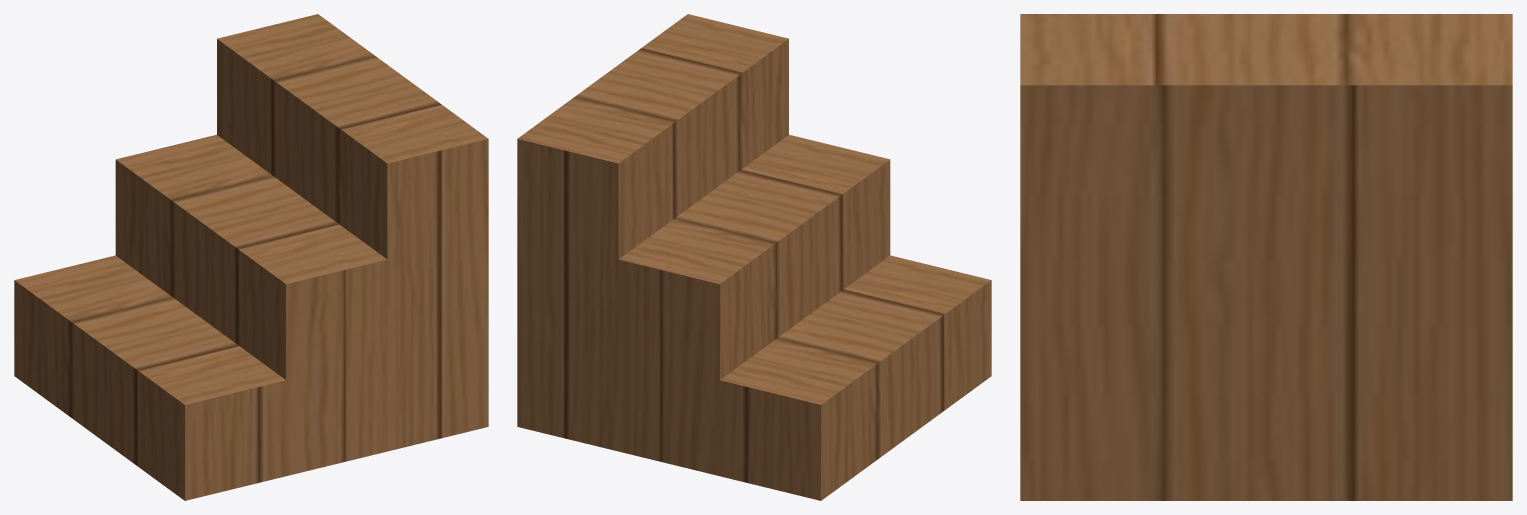
The picture shows the model from 3 angles, left to right: view 1: azimuth 30°, elevation 25°; view 2: azimuth 150°, elevation 25°; view 3: azimuth 270°, elevation 25°; orthographic projection. The views are drawn at different scales.
Parts seen in each view (by area): view 1: StraightStair001; view 2: StraightStair001; view 3: StraightStair001.
Boxes of the visible parts, x1=… form: StraightStair001: x1=14, y1=14, x2=488, y2=500; StraightStair001: x1=517, y1=14, x2=991, y2=500; StraightStair001: x1=1020, y1=14, x2=1512, y2=500.
Size of the model in its own units: 41.44 by 37.54 by 40.3.
